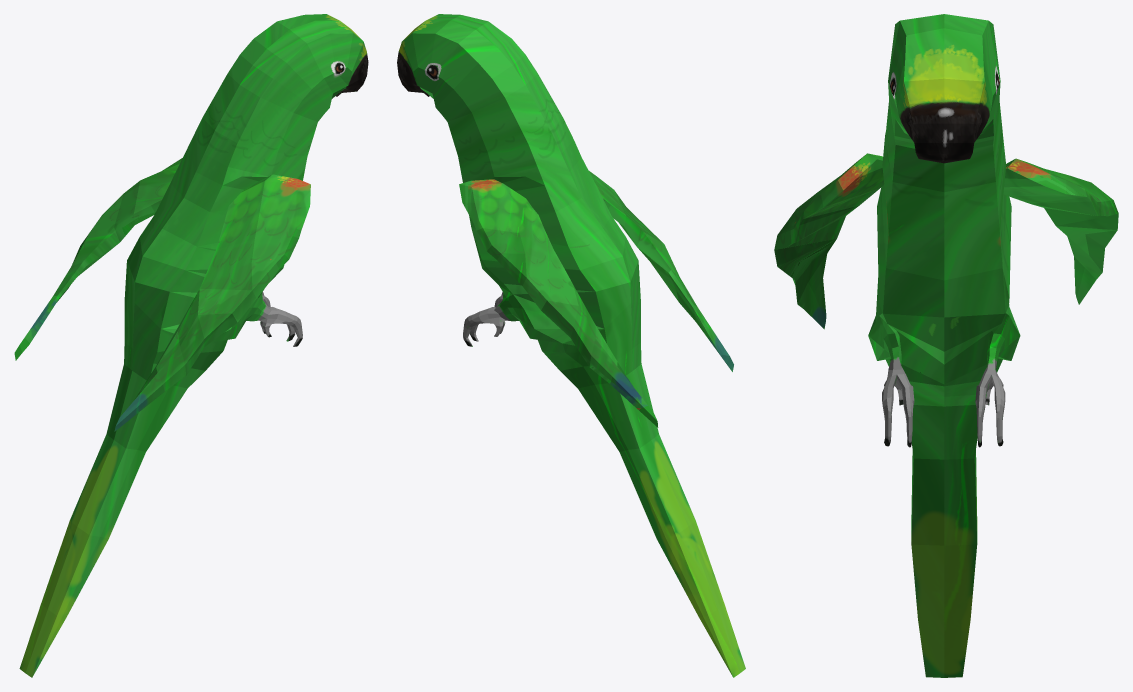
File: PapegojFLYG.fbx
3 views of the same model, side by side, from view 1: azimuth 30°, elevation 25°; view 2: azimuth 150°, elevation 25°; view 3: azimuth 270°, elevation 25° (orthographic). The views are drawn at different scales.
Parts seen in each view (by area): view 1: polySurface62; view 2: polySurface62; view 3: polySurface62.
Boxes of the visible parts, x1,y1,x2,y2 form: polySurface62: (14, 14, 368, 677); polySurface62: (397, 14, 745, 677); polySurface62: (774, 14, 1118, 677).
Size of the model in its own units: 3.95 by 6.59 by 2.4.
1 material, 1 textured.
